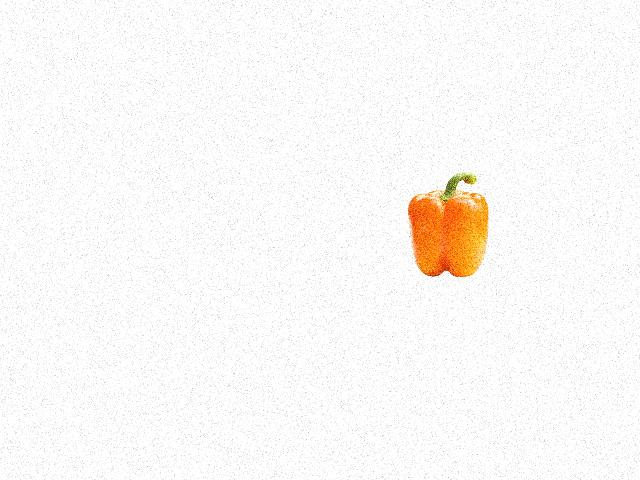bell_pepper: (400, 172, 497, 277)
